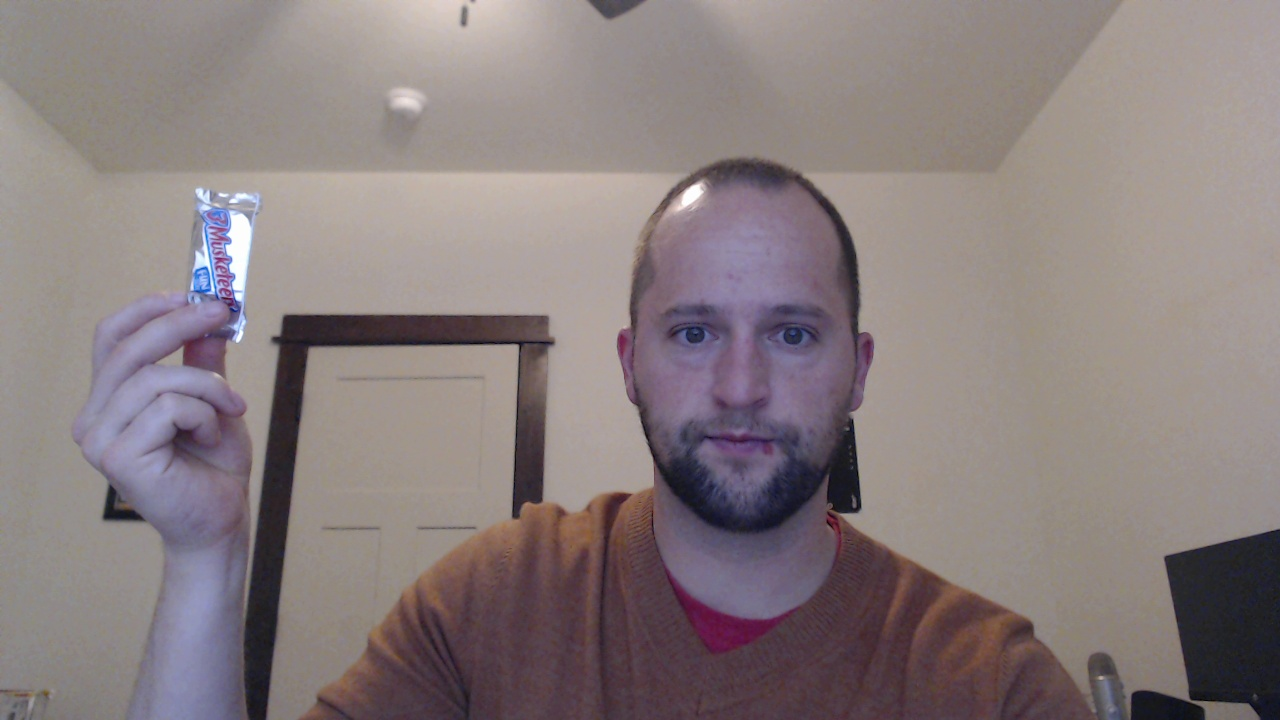three_musketeers: (174, 169, 274, 356)
